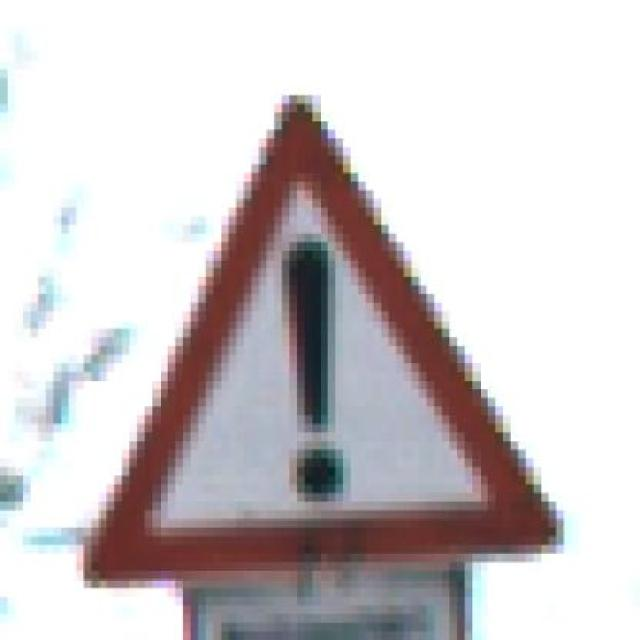Attention Please-: (61, 86, 572, 606)
